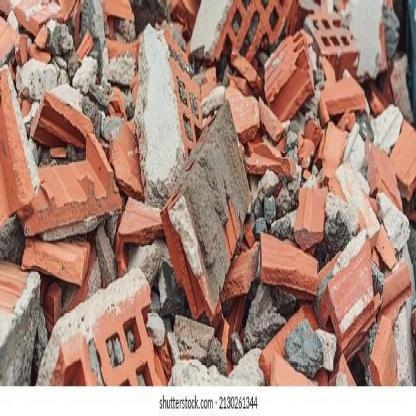brick: (0, 2, 415, 382)
